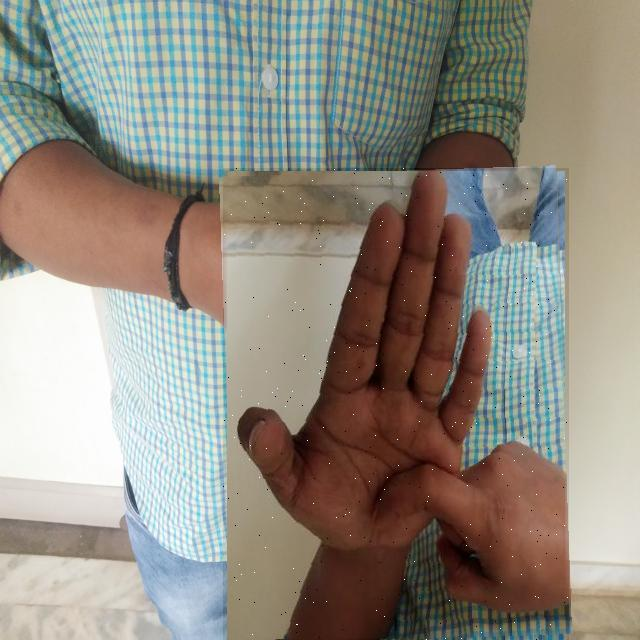R: (223, 168, 569, 640)
